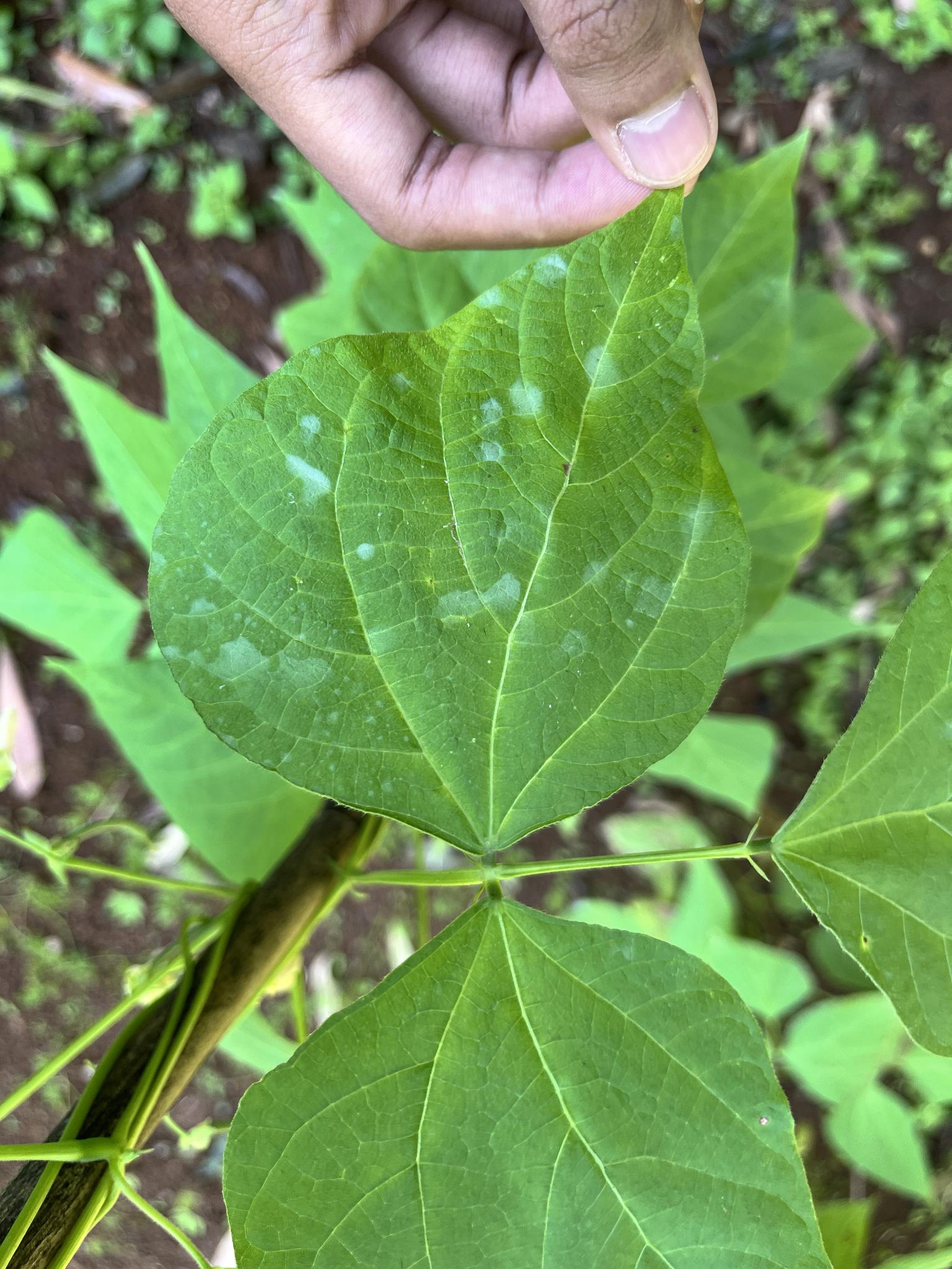embun tepung: (284, 447, 345, 514)
